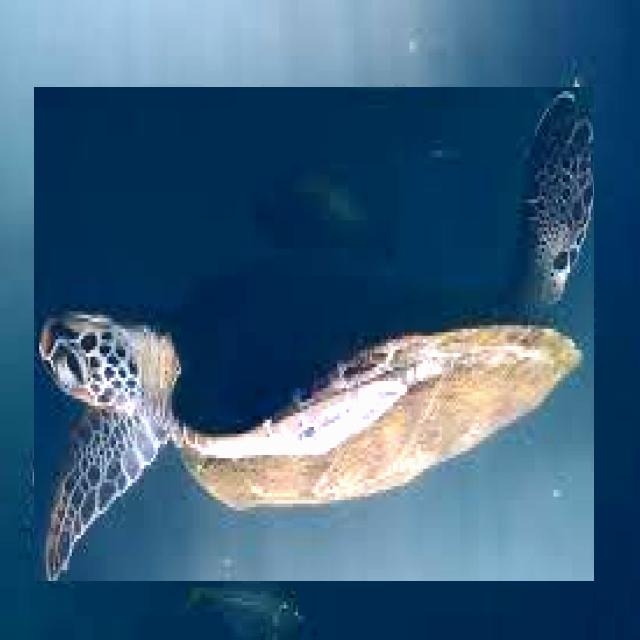Sea turtle: (34, 87, 594, 581)
